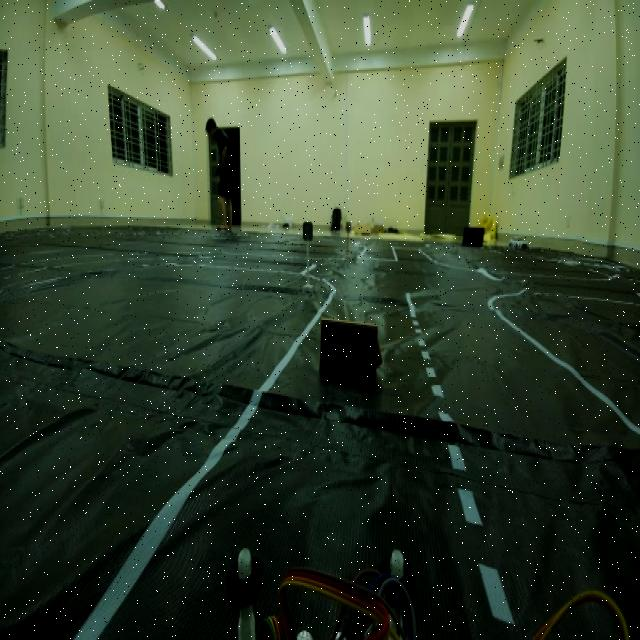roadblock: (312, 313, 392, 394)
